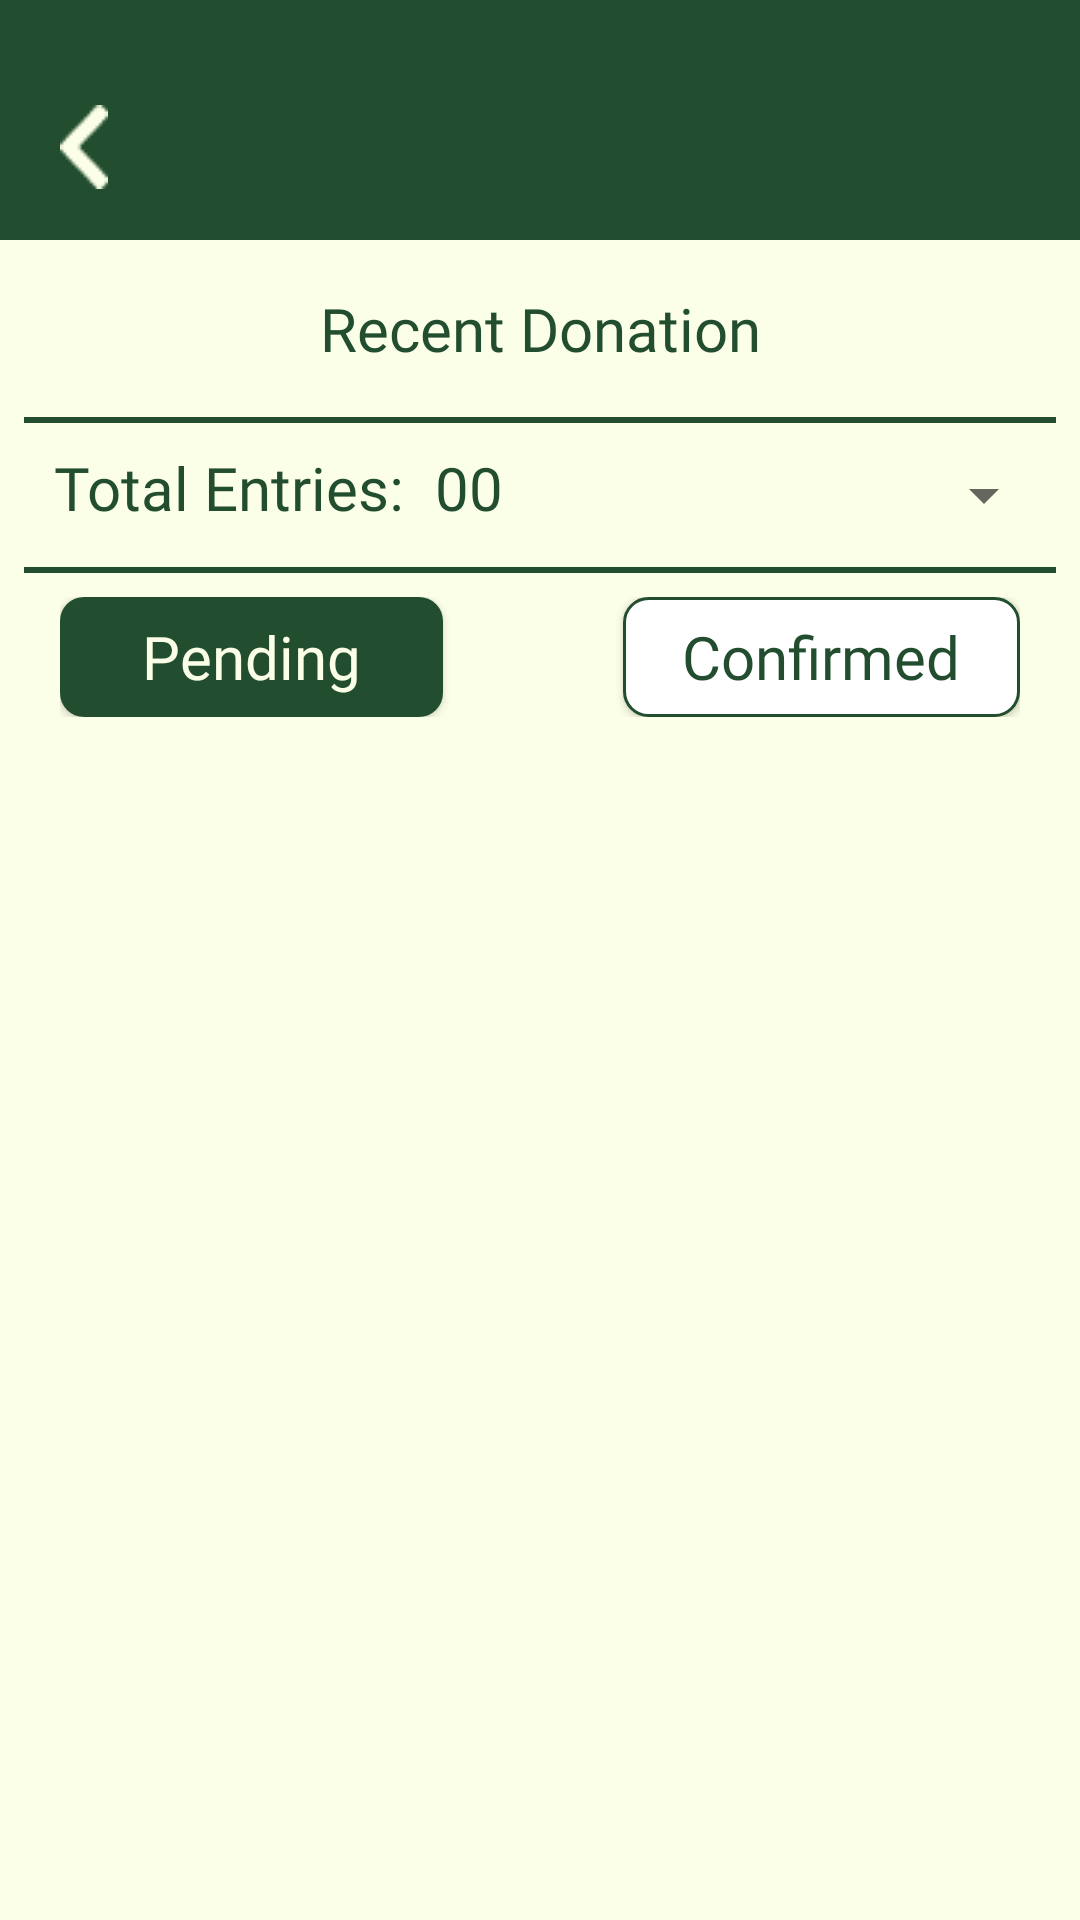

Where icons sit on this 1080x1920 app screen, as box=[x1, y1, x2, y2]:
arrow left pale: box=[60, 105, 108, 189]
